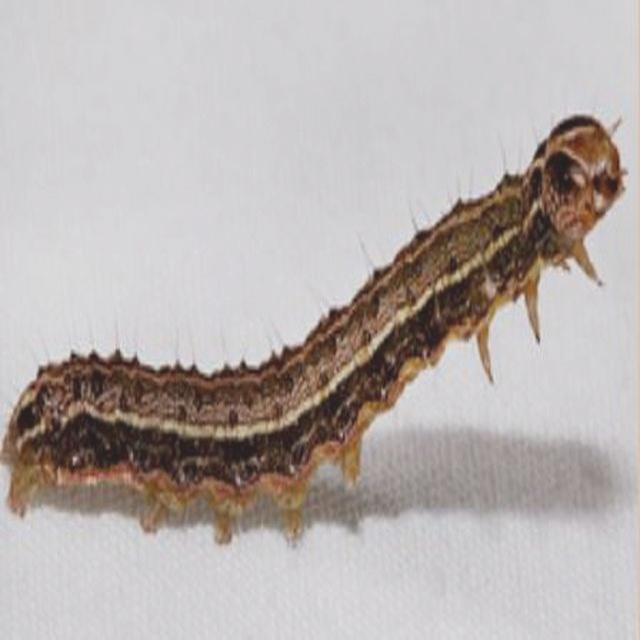gusano_cogollero: (3, 110, 615, 492)
